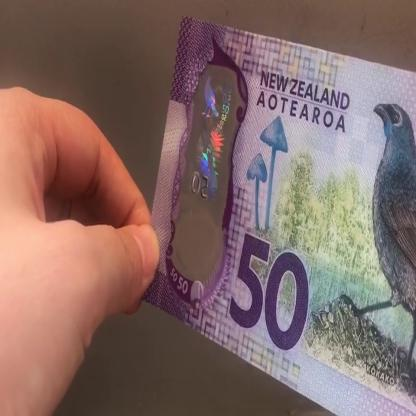50B: (186, 70, 235, 276)
